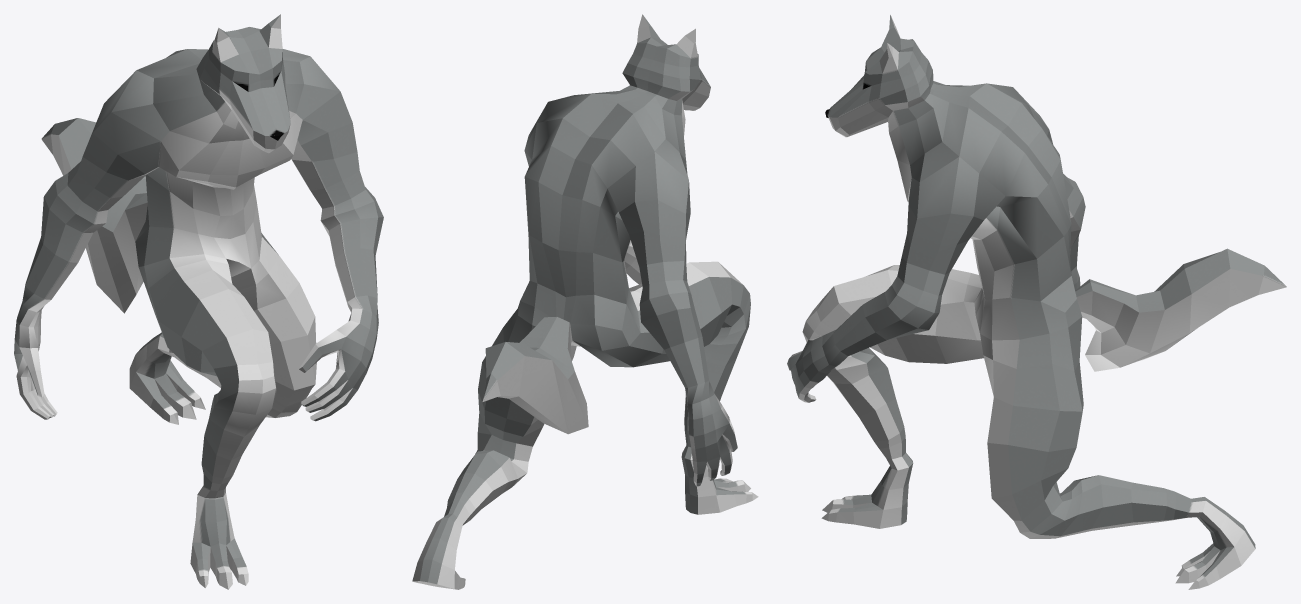
The model's file is WolfWalk(31).obj.
3 renders of one model, left to right at view 1: azimuth 30°, elevation 25°; view 2: azimuth 150°, elevation 25°; view 3: azimuth 270°, elevation 25°, orthographic. The views are drawn at different scales.
Visible parts, largest first — view 1: Box001; view 2: Box001; view 3: Box001.
Part boxes in pixels (x1,y1,x2,y2): Box001: (14, 14, 383, 589); Box001: (412, 14, 758, 589); Box001: (787, 15, 1286, 589).
Bounding box in the file's own units: 70.51 × 124 × 109.
